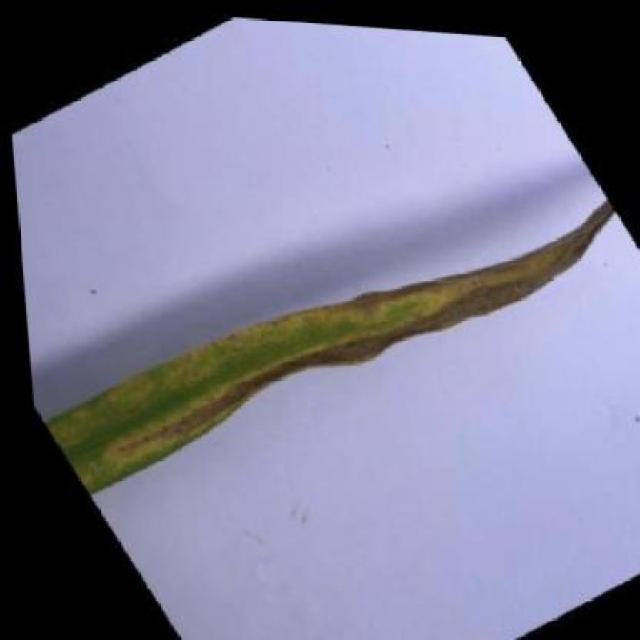Rice False Smut: (14, 98, 640, 551)
